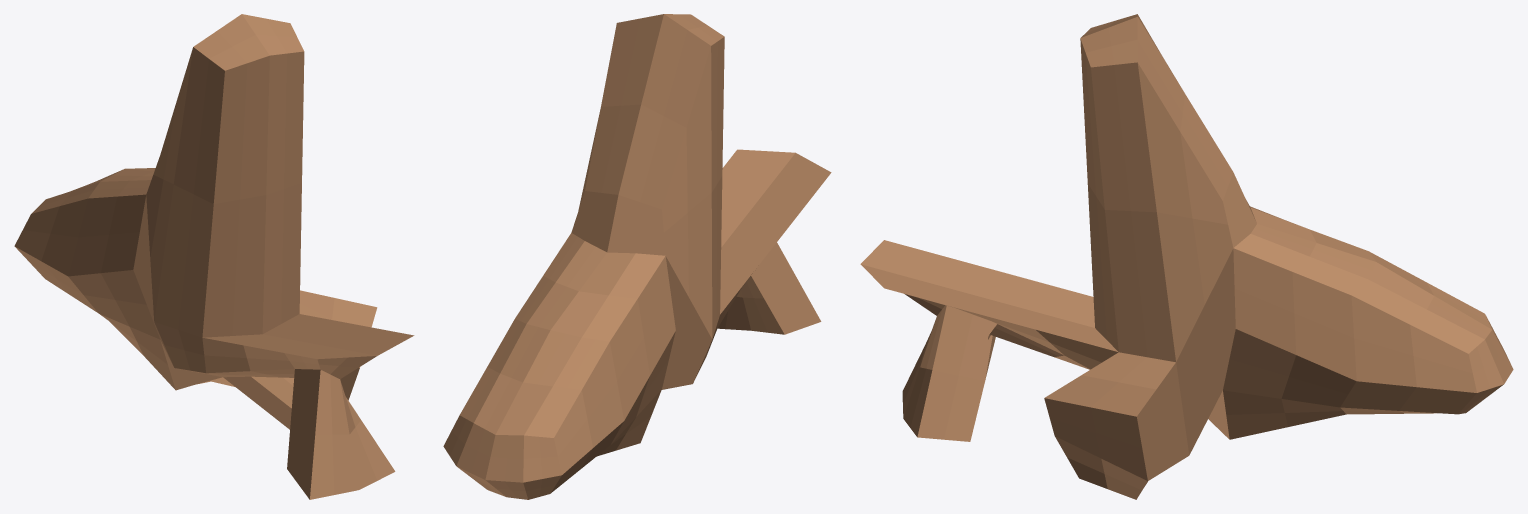
File: pride rock.fbx
The picture shows the model from 3 angles, left to right: view 1: azimuth 30°, elevation 25°; view 2: azimuth 150°, elevation 25°; view 3: azimuth 270°, elevation 25°; orthographic projection. The views are drawn at different scales.
Visible parts, largest first — view 1: Cube; view 2: Cube; view 3: Cube.
Part boxes in pixels (bbox=[...]): Cube: bbox=[14, 14, 414, 499]; Cube: bbox=[443, 14, 831, 499]; Cube: bbox=[860, 14, 1513, 499].
Bounding box in the file's own units: 1214 × 2519 × 3299.
